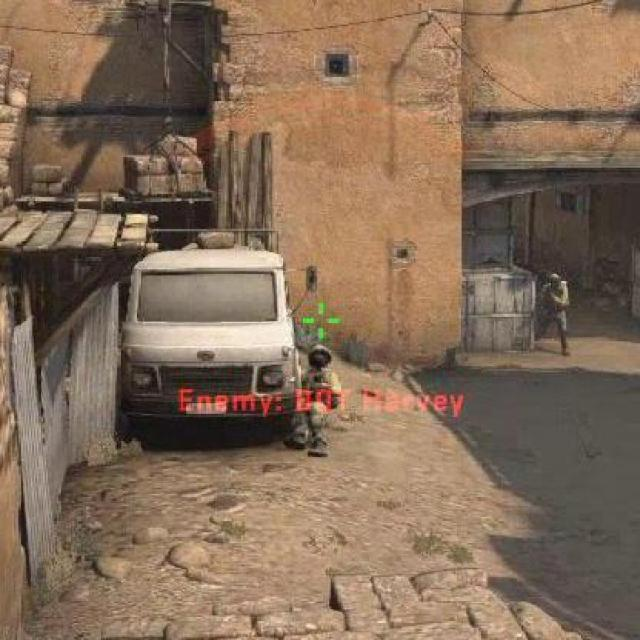CT-Body: (546, 269, 559, 282)
CT-Head: (536, 268, 566, 342)
